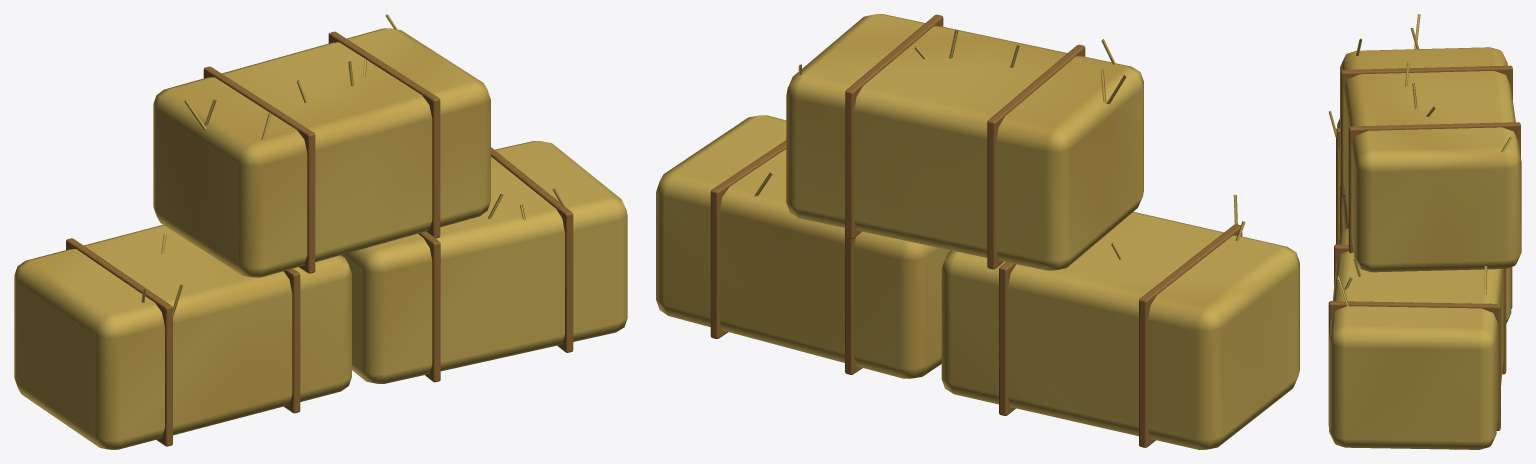
Rendered from furn_hay_stack.glb.
The picture shows the model from 3 angles, left to right: view 1: azimuth 30°, elevation 25°; view 2: azimuth 150°, elevation 25°; view 3: azimuth 270°, elevation 25°; orthographic projection. The views are drawn at different scales.
Visible parts, largest first — view 1: furn_hay_stack_main; view 2: furn_hay_stack_main; view 3: furn_hay_stack_main.
Part boxes in pixels (x1,y1,x2,y2): furn_hay_stack_main: (14, 14, 627, 449); furn_hay_stack_main: (656, 14, 1299, 449); furn_hay_stack_main: (1328, 14, 1521, 449).
Bounding box in the file's own units: 1.65 × 0.8829 × 0.5759.
